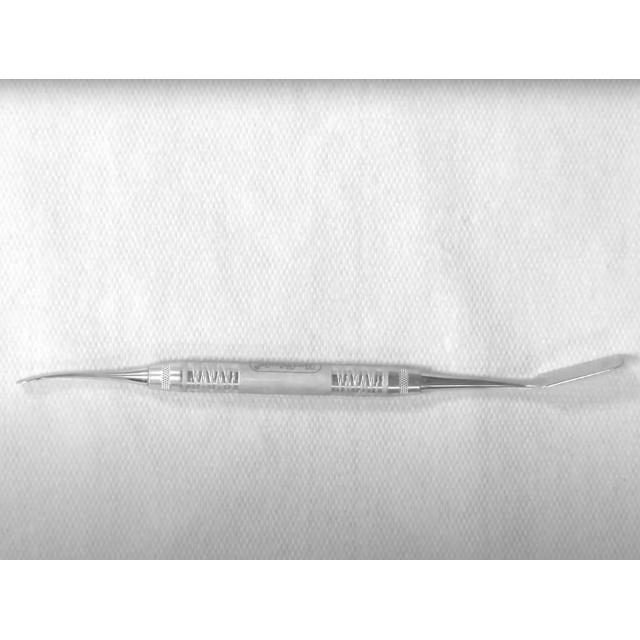elevador: (22, 355, 636, 400)
